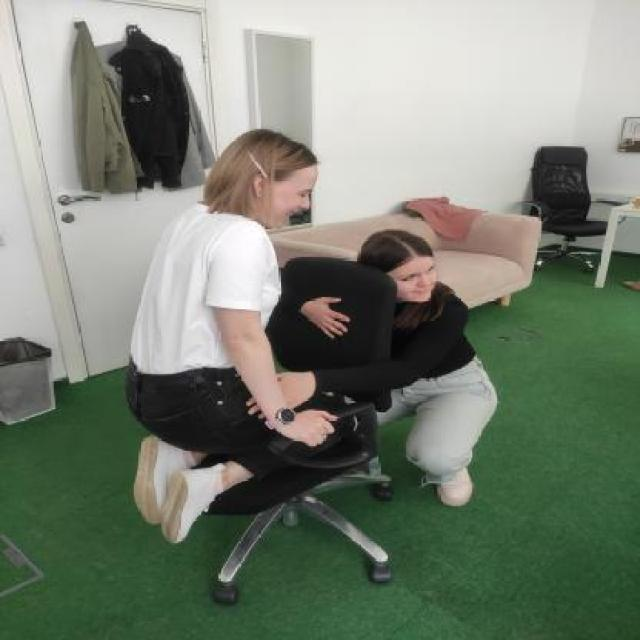chair: (149, 252, 408, 608)
